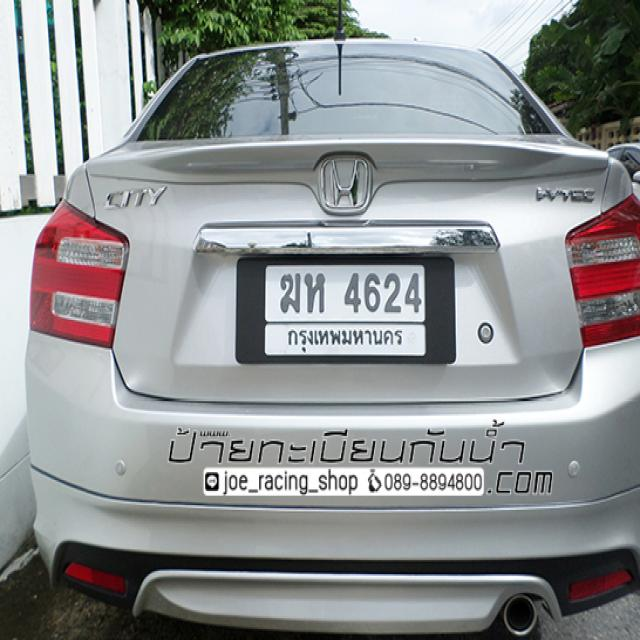license_plate: (232, 248, 462, 373)
